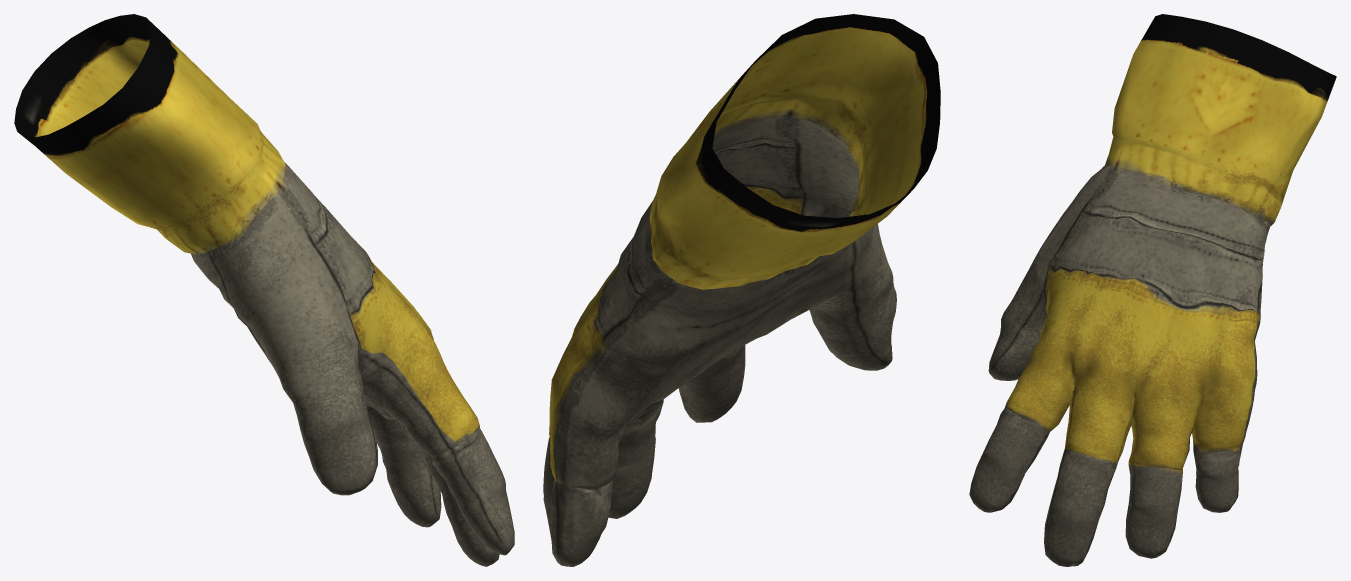
File: WORKER_GLOVE1.fbx
3 views of the same model, side by side, from view 1: azimuth 30°, elevation 25°; view 2: azimuth 150°, elevation 25°; view 3: azimuth 270°, elevation 25° (orthographic). The views are drawn at different scales.
Visible parts, largest first — view 1: WORKER_GLOVE1; view 2: WORKER_GLOVE1; view 3: WORKER_GLOVE1.
Part boxes in pixels (x1,y1,x2,y2): WORKER_GLOVE1: (14, 14, 514, 566); WORKER_GLOVE1: (543, 14, 940, 566); WORKER_GLOVE1: (969, 14, 1336, 566).
Bounding box in the file's own units: 16.75 × 23.05 × 17.26.
1 material, 1 textured.
